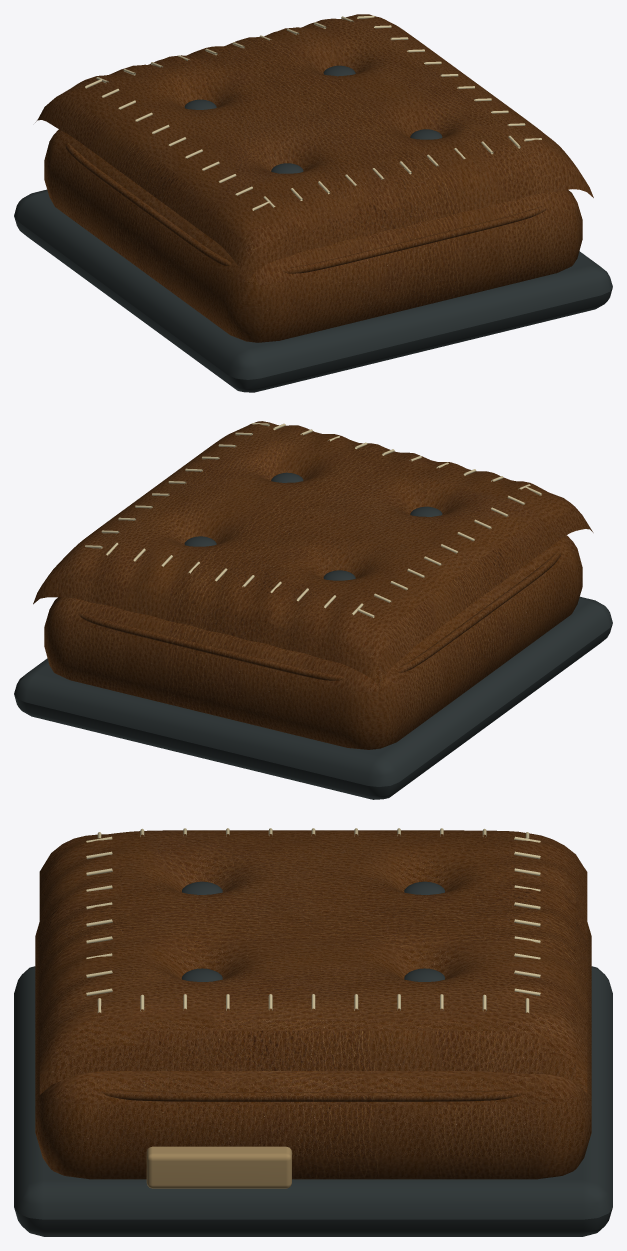
File: cushion.glb
3 views of the same model, one above another, from view 1: azimuth 30°, elevation 25°; view 2: azimuth 150°, elevation 25°; view 3: azimuth 270°, elevation 25° (orthographic). The views are drawn at different scales.
Visible parts, largest first — view 1: Stitched leather cushion, Leather sidewall, Cushion backing, Leather piping; view 2: Stitched leather cushion, Leather sidewall, Cushion backing, Leather piping; view 3: Stitched leather cushion, Leather sidewall, Cushion backing, Cushion tag, Leather piping.
Part boxes in pixels (left/top/right/bottom): Stitched leather cushion: left=35, top=14, right=593, bottom=282; Leather sidewall: left=44, top=129, right=582, bottom=342; Cushion backing: left=14, top=189, right=612, bottom=392; Leather piping: left=65, top=143, right=548, bottom=273; Stitched leather cushion: left=33, top=421, right=593, bottom=688; Leather sidewall: left=44, top=535, right=582, bottom=749; Cushion backing: left=14, top=596, right=612, bottom=799; Leather piping: left=78, top=550, right=561, bottom=680; Stitched leather cushion: left=39, top=830, right=587, bottom=1094; Leather sidewall: left=35, top=922, right=591, bottom=1179; Cushion backing: left=14, top=966, right=612, bottom=1236; Cushion tag: left=146, top=1146, right=291, bottom=1188; Leather piping: left=101, top=1089, right=525, bottom=1101.
Size of the model in its own units: 0.66 by 0.2754 by 0.7.
4 materials, 1 textured.
